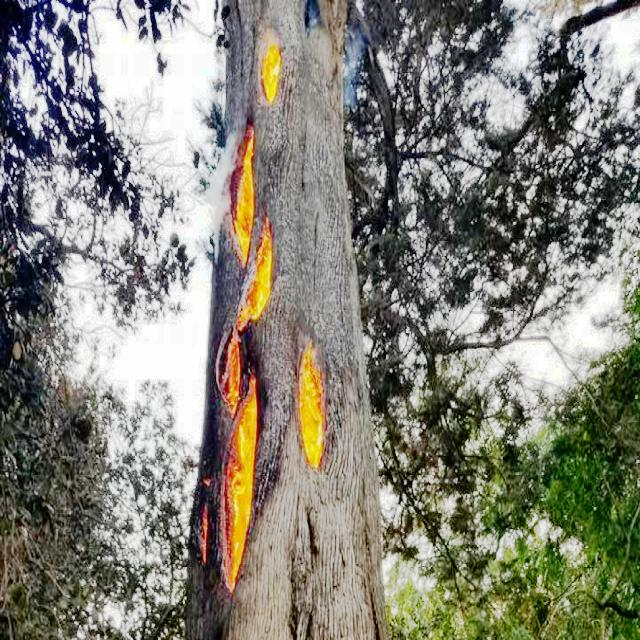api: (224, 387, 262, 586), (299, 351, 329, 462), (243, 241, 273, 336), (238, 134, 254, 260), (267, 25, 282, 97), (224, 344, 239, 414)
asap: (208, 129, 232, 257)
